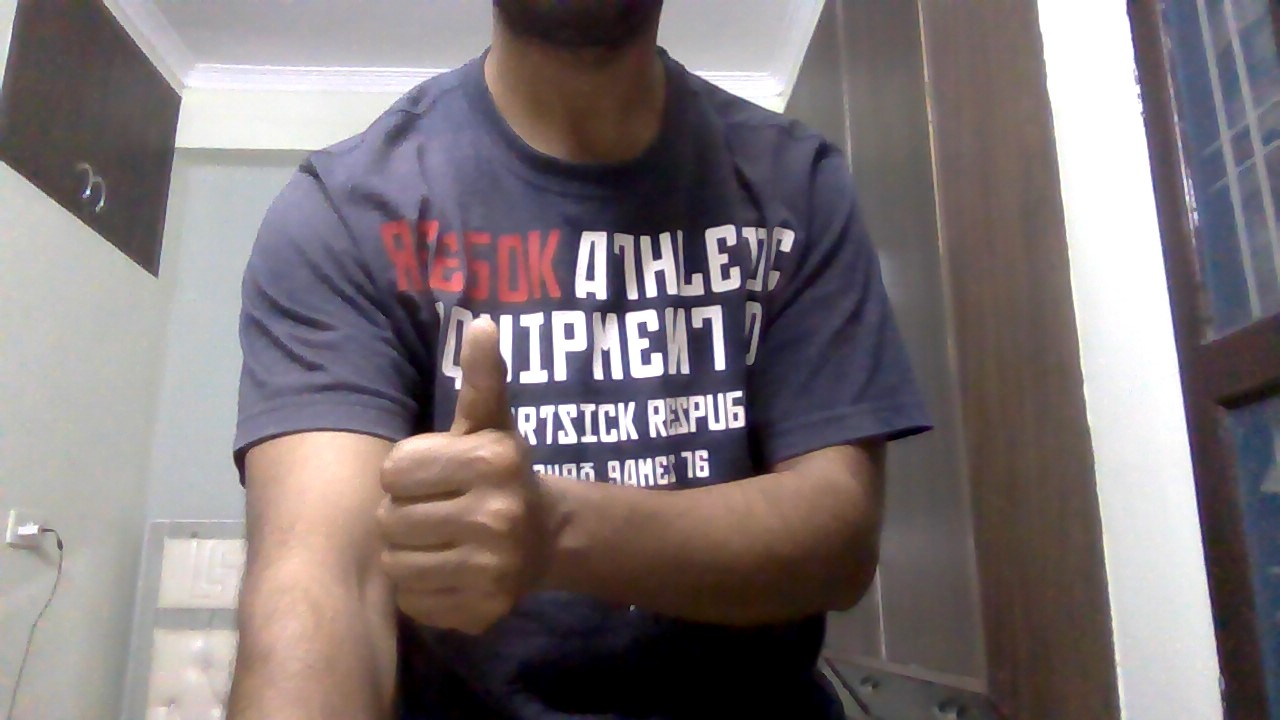Save: (363, 311, 549, 656)
